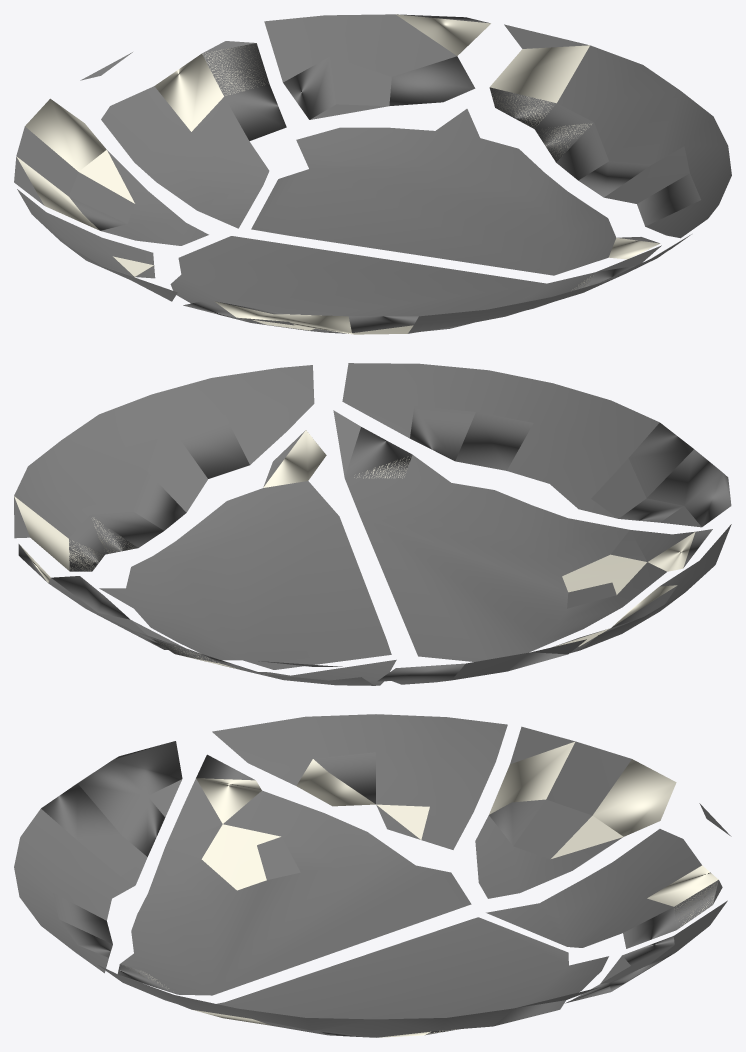
The model's file is CeramicsShattered.fbx_Plate_Small_Fractured.fbx.
The picture shows the model from 3 angles, top to bottom: view 1: azimuth 30°, elevation 25°; view 2: azimuth 150°, elevation 25°; view 3: azimuth 270°, elevation 25°; orthographic projection.
Parts seen in each view (by area): view 1: Plate_Small_cell.002, Plate_Small_cell.006, Plate_Small_cell.004, Plate_Small_cell.007, Plate_Small_cell, Plate_Small_cell.003, Plate_Small_cell.008, Plate_Small_cell.005; view 2: Plate_Small_cell.004, Plate_Small_cell.002, Plate_Small_cell.008, Plate_Small_cell.006, Plate_Small_cell.005, Plate_Small_cell.003, Plate_Small_cell, Plate_Small_cell.007; view 3: Plate_Small_cell.004, Plate_Small_cell.005, Plate_Small_cell.002, Plate_Small_cell.008, Plate_Small_cell.003, Plate_Small_cell.007, Plate_Small_cell.006, Plate_Small_cell.
Boxes of the visible parts, x1=… form: Plate_Small_cell.002: x1=251, y1=109, x2=660, y2=275; Plate_Small_cell.006: x1=489, y1=24, x2=731, y2=238; Plate_Small_cell.004: x1=170, y1=236, x2=661, y2=333; Plate_Small_cell.007: x1=101, y1=41, x2=286, y2=228; Plate_Small_cell: x1=264, y1=14, x2=490, y2=119; Plate_Small_cell.003: x1=14, y1=98, x2=208, y2=245; Plate_Small_cell.008: x1=214, y1=234, x2=691, y2=334; Plate_Small_cell.005: x1=17, y1=189, x2=177, y2=301; Plate_Small_cell.004: x1=333, y1=410, x2=712, y2=661; Plate_Small_cell.002: x1=99, y1=430, x2=391, y2=669; Plate_Small_cell.008: x1=342, y1=363, x2=731, y2=527; Plate_Small_cell.006: x1=14, y1=365, x2=314, y2=571; Plate_Small_cell.005: x1=552, y1=524, x2=731, y2=653; Plate_Small_cell.003: x1=377, y1=639, x2=586, y2=684; Plate_Small_cell: x1=18, y1=544, x2=184, y2=649; Plate_Small_cell.007: x1=152, y1=639, x2=396, y2=685; Plate_Small_cell.004: x1=117, y1=754, x2=471, y2=995; Plate_Small_cell.005: x1=212, y1=714, x2=507, y2=849; Plate_Small_cell.002: x1=217, y1=917, x2=608, y2=1019; Plate_Small_cell.008: x1=14, y1=741, x2=182, y2=973; Plate_Small_cell.003: x1=475, y1=726, x2=676, y2=898; Plate_Small_cell.007: x1=486, y1=829, x2=722, y2=948; Plate_Small_cell.006: x1=98, y1=965, x2=600, y2=1037; Plate_Small_cell: x1=565, y1=900, x2=727, y2=1003.
Bounding box in the file's own units: 10.35 × 1.38 × 10.39.
